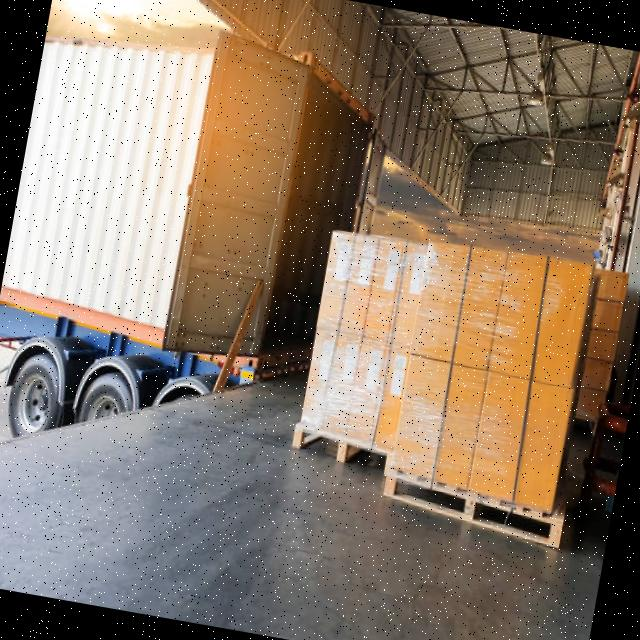Wooden-Pallets: (378, 465, 564, 561)
